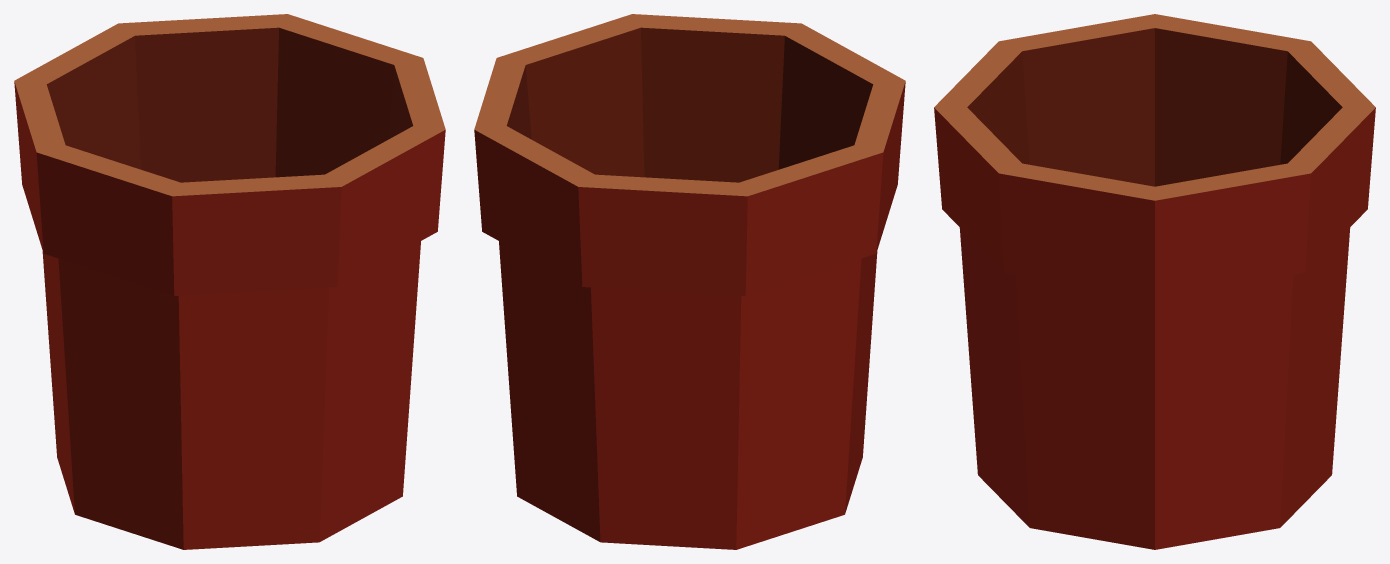
File: Vase 2.glb
3 views of the same model, side by side, from view 1: azimuth 30°, elevation 25°; view 2: azimuth 150°, elevation 25°; view 3: azimuth 270°, elevation 25° (orthographic).
Visible parts, largest first — view 1: Vase 2; view 2: Vase 2; view 3: Vase 2.
Boxes of the visible parts, bbox=[...] form: Vase 2: bbox=[14, 14, 445, 549]; Vase 2: bbox=[474, 14, 905, 549]; Vase 2: bbox=[934, 14, 1375, 549].
Size of what is drawn, in the model's own units: 0.3553 by 0.3263 by 0.3553.
1 material, 1 textured.
